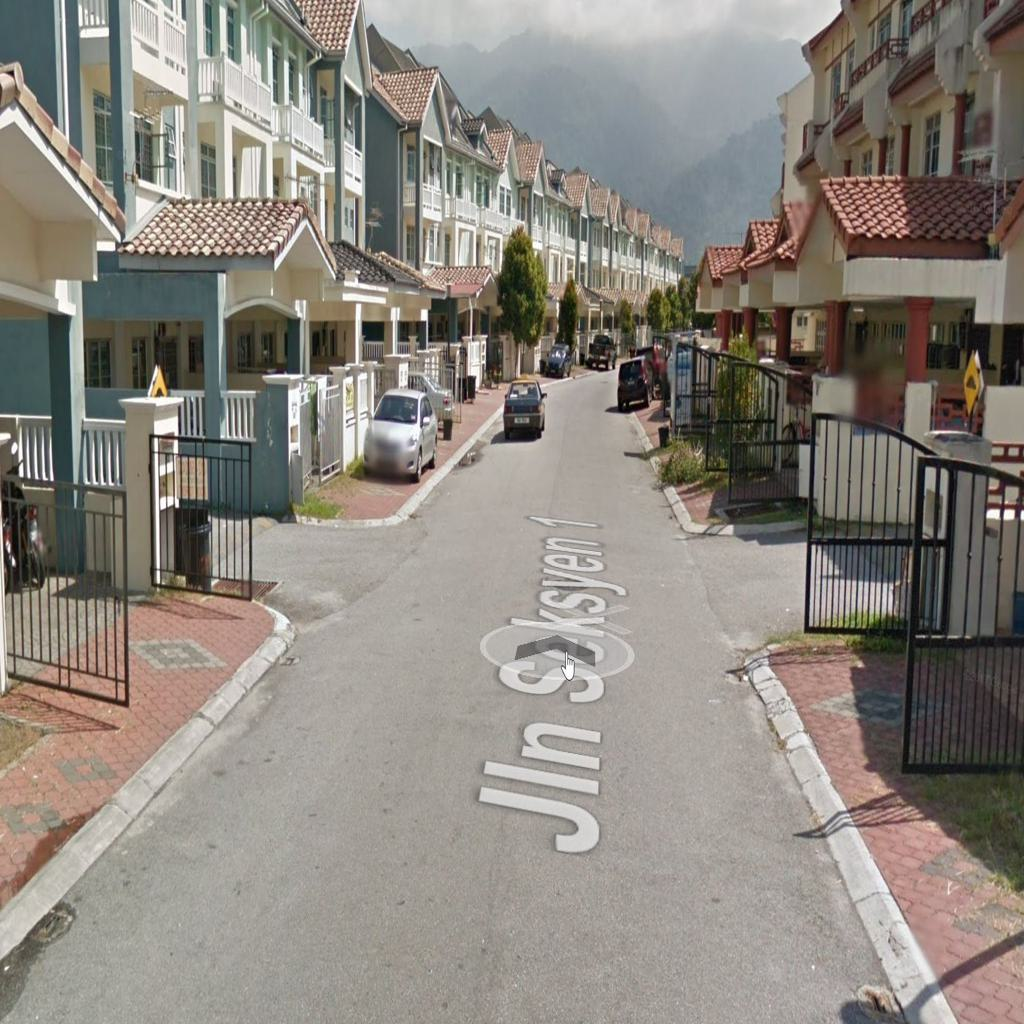Junction: (194, 477, 427, 656), (666, 508, 914, 674)
